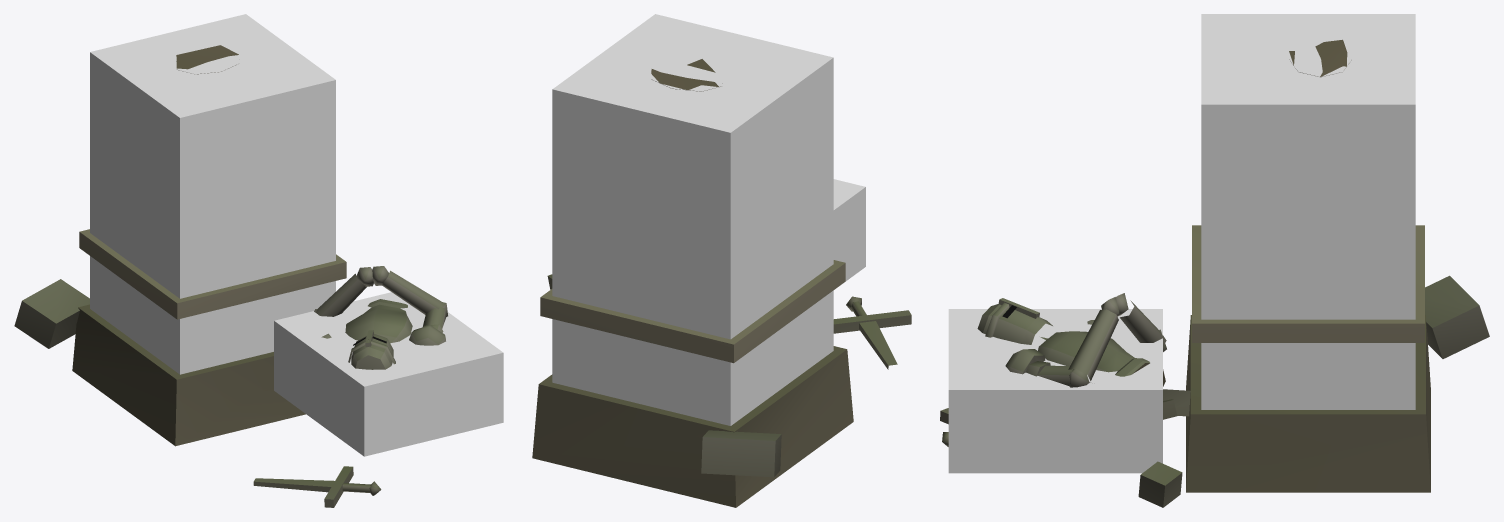
Rendered from statue_broken.glb.
3 views of the same model, side by side, from view 1: azimuth 30°, elevation 25°; view 2: azimuth 150°, elevation 25°; view 3: azimuth 270°, elevation 25° (orthographic). The views are drawn at different scales.
Parts seen in each view (by area): view 1: COL_statue, statue_broken, COL_torso; view 2: COL_statue, statue_broken, COL_torso; view 3: COL_statue, statue_broken, COL_torso.
Boxes of the visible parts, x1=… form: COL_statue: x1=90, y1=14, x2=335, y2=374; statue_broken: x1=14, y1=45, x2=447, y2=507; COL_torso: x1=274, y1=292, x2=503, y2=456; COL_statue: x1=552, y1=14, x2=833, y2=425; statue_broken: x1=532, y1=59, x2=911, y2=507; COL_torso: x1=833, y1=179, x2=865, y2=289; COL_statue: x1=1201, y1=14, x2=1415, y2=409; statue_broken: x1=940, y1=39, x2=1489, y2=507; COL_torso: x1=948, y1=309, x2=1162, y2=473.
Size of the model in its own units: 2.89 by 2.82 by 3.59.
